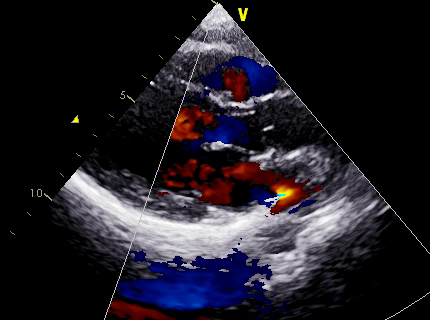AR: (185, 104, 226, 144)
